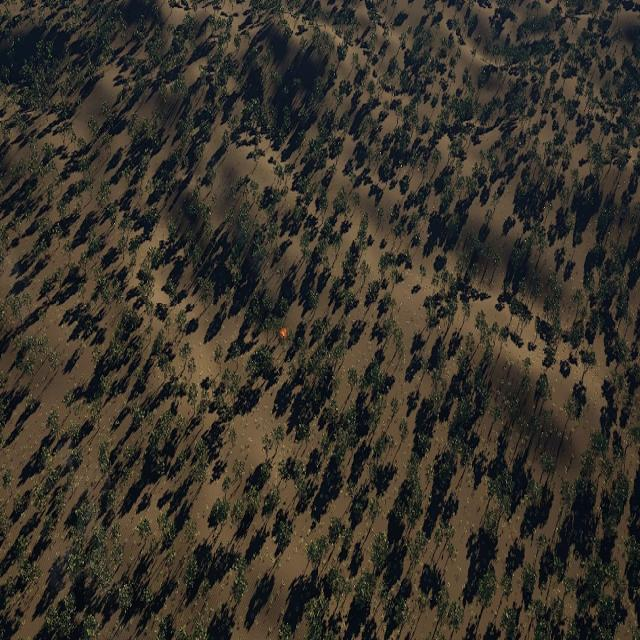fire: (281, 327, 288, 338)
